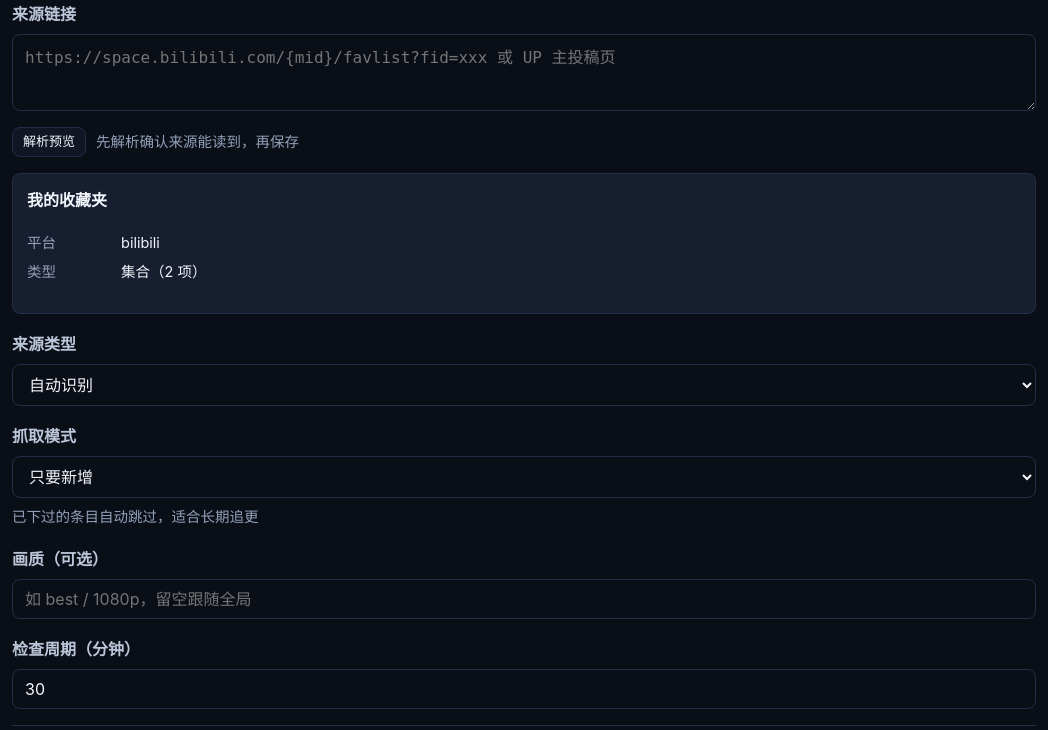
Test: SubForm 组件 › 「指定区间」模式下才出现起止条目输入
Select "指定区间" in the dropdown labelled "抓取模式 已下过的条目自动跳过，适合长期追更": point(524, 477) x1=12 y1=456 x2=1036 y2=498
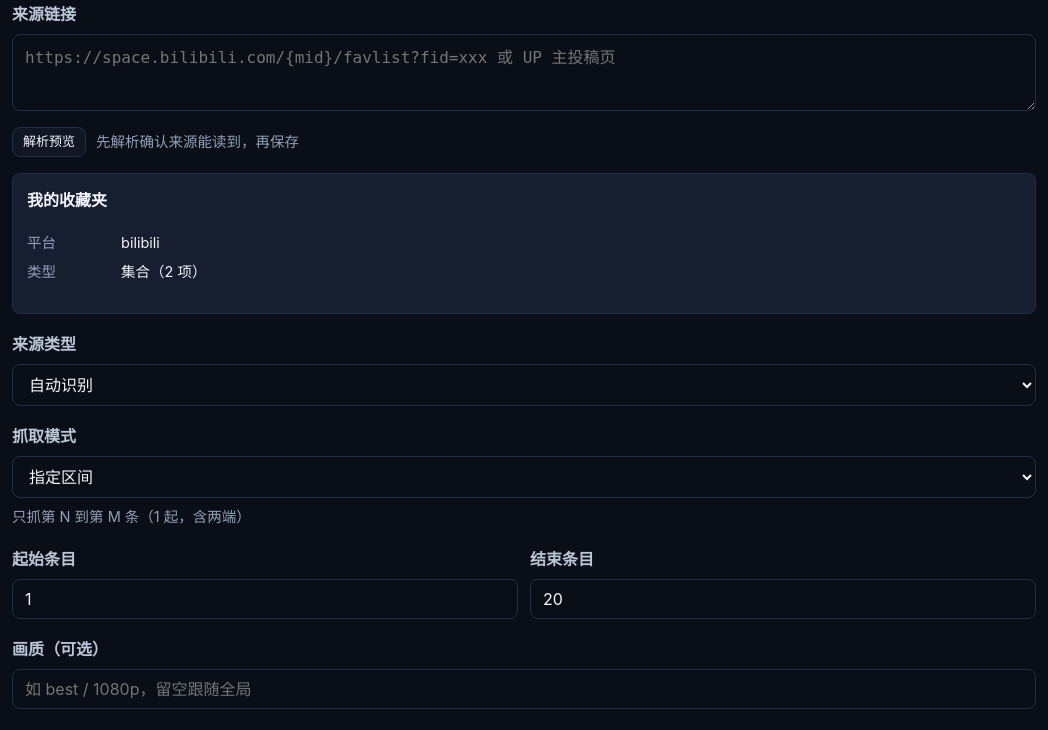
Result: the element with class "range-row" is shown at x1=12 y1=545 x2=1036 y2=619
